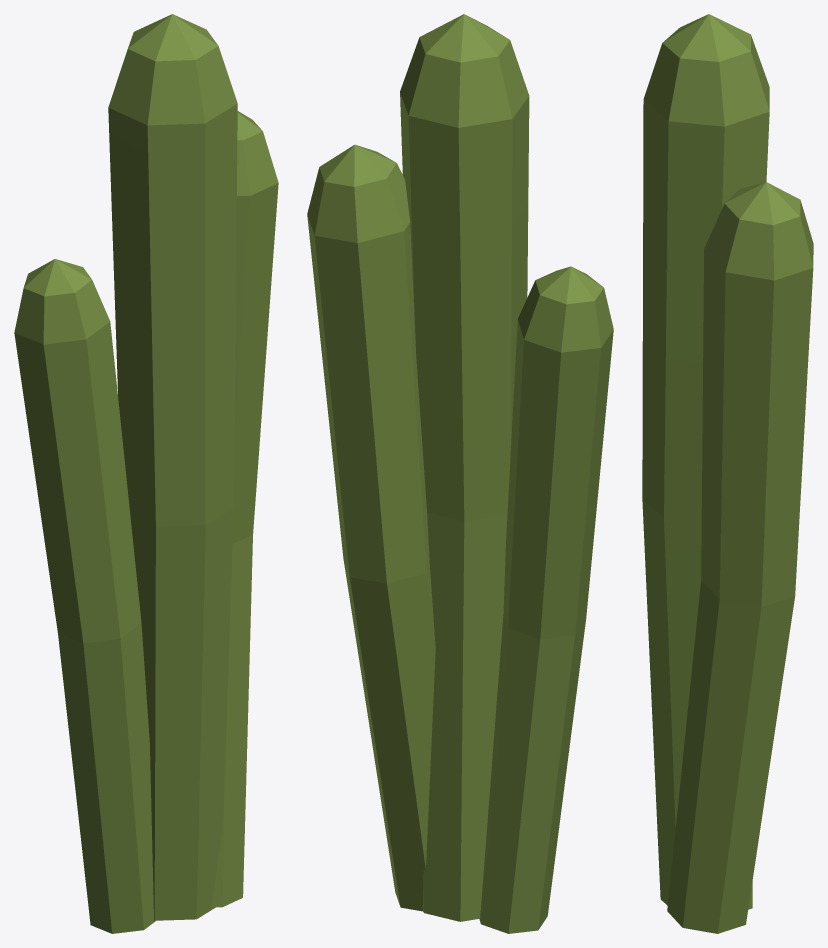
File: cactus03.fbx
3 views of the same model, side by side, from view 1: azimuth 30°, elevation 25°; view 2: azimuth 150°, elevation 25°; view 3: azimuth 270°, elevation 25° (orthographic).
Visible parts, largest first — view 1: cactus03; view 2: cactus03; view 3: cactus03.
Part boxes in pixels (x1,y1,x2,y2): cactus03: (14, 14, 278, 933); cactus03: (307, 14, 613, 933); cactus03: (642, 14, 813, 933).
Bounding box in the file's own units: 0.781 × 2.48 × 0.4271.
